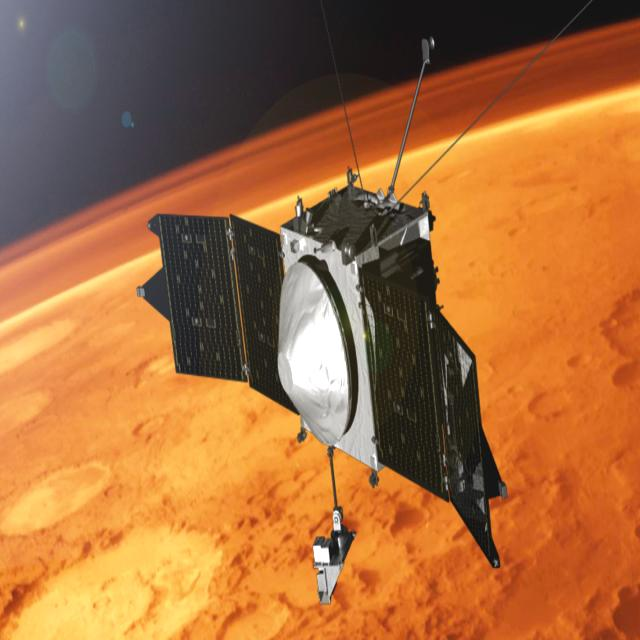medium_debris: (142, 88, 512, 622)
